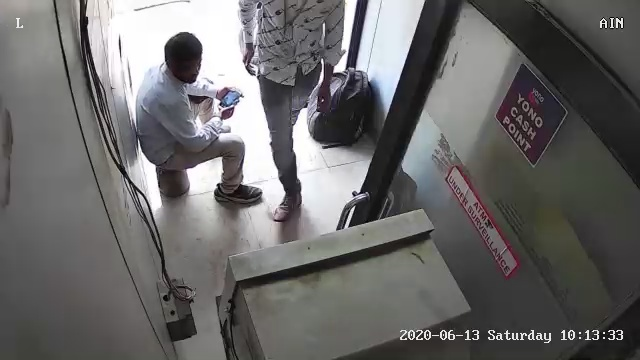open: (77, 3, 376, 160)
